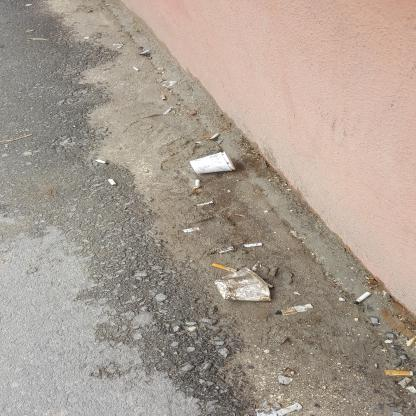karton: (269, 143, 303, 203), (152, 182, 176, 228)
kopuk: (293, 45, 306, 64), (180, 301, 187, 310), (161, 311, 165, 322)
